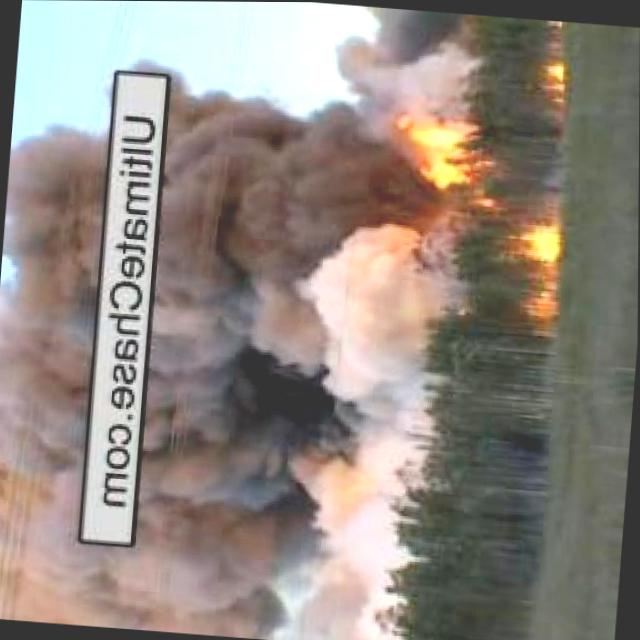helmet: (379, 104, 495, 196), (512, 222, 558, 263), (517, 276, 559, 317), (536, 57, 571, 94)
no_helmet: (136, 75, 428, 640), (0, 118, 107, 624)
